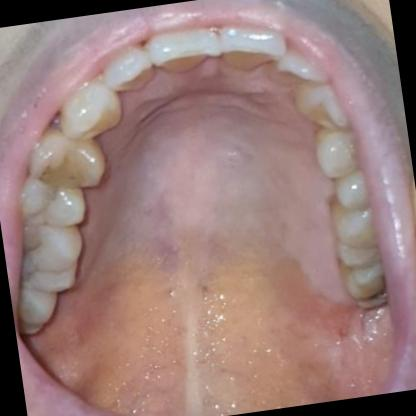Crowding: (278, 46, 350, 135)
Healthy: (20, 193, 86, 289)
